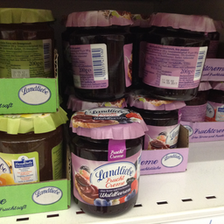jam: (70, 107, 145, 218), (66, 11, 136, 99), (143, 12, 210, 101), (1, 115, 64, 185), (1, 7, 56, 78)
